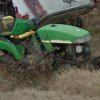Tractor: (3, 7, 94, 70)
